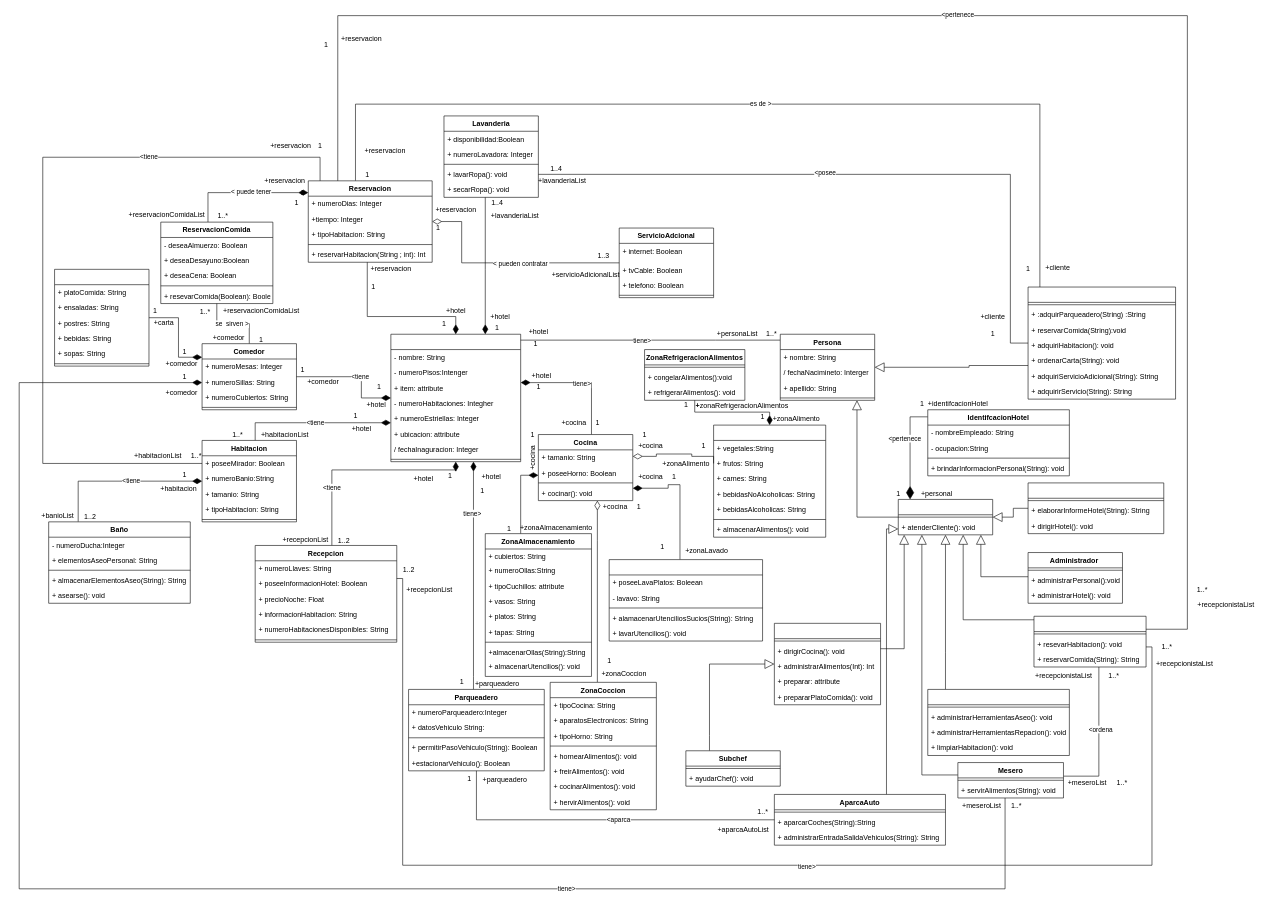
This 1269x909 diagram has some shape labels left out. The box of each missing label's shape, as (x1, y1, x2, y2) in pixels:
Carta: (54, 269, 149, 366)
Chef: (774, 623, 881, 705)
Cliente: (1027, 286, 1176, 399)
Conserge: (927, 689, 1069, 755)
Gerente: (1027, 482, 1164, 534)
Hotel: (390, 334, 521, 462)
Personal: (898, 499, 993, 535)
Recepcionista: (1033, 616, 1146, 667)
ZonaAlimento: (713, 425, 826, 537)
ZonaLavado: (609, 559, 763, 641)
